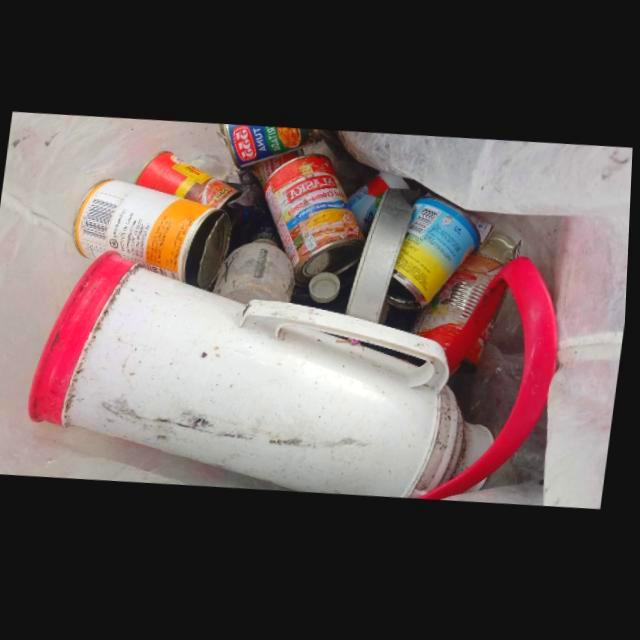aluminum: (75, 180, 233, 292), (265, 156, 368, 288), (416, 231, 524, 356), (388, 201, 481, 312), (348, 190, 416, 325), (134, 152, 240, 210), (217, 125, 323, 171)
plastic_bottle: (215, 227, 297, 306)
